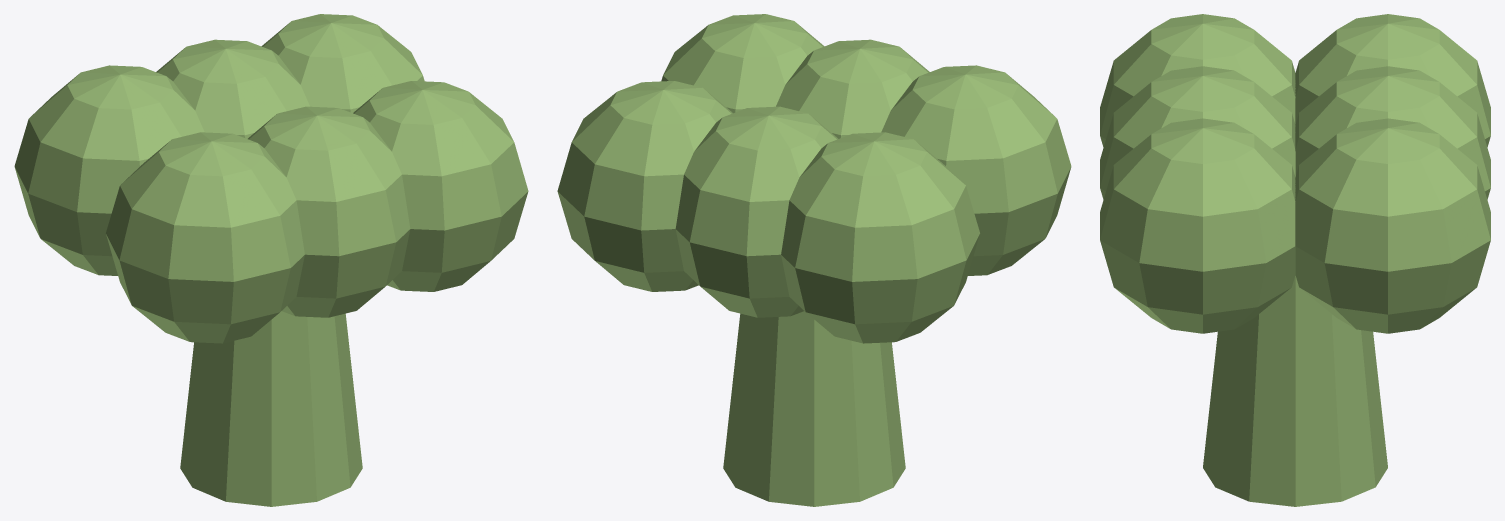
The model's file is supermarket-operations-broccoli-066b580d__26915.glb.
3 renders of one model, left to right at view 1: azimuth 30°, elevation 25°; view 2: azimuth 150°, elevation 25°; view 3: azimuth 270°, elevation 25°, orthographic.
Visible parts, largest first — view 1: broccoli; view 2: broccoli; view 3: broccoli.
Part boxes in pixels (<box>): broccoli: <box>14,14,528,506</box>; broccoli: <box>557,14,1071,506</box>; broccoli: <box>1100,14,1490,506</box>.
Size of the model in its own units: 0.15 by 0.14 by 0.1266.
